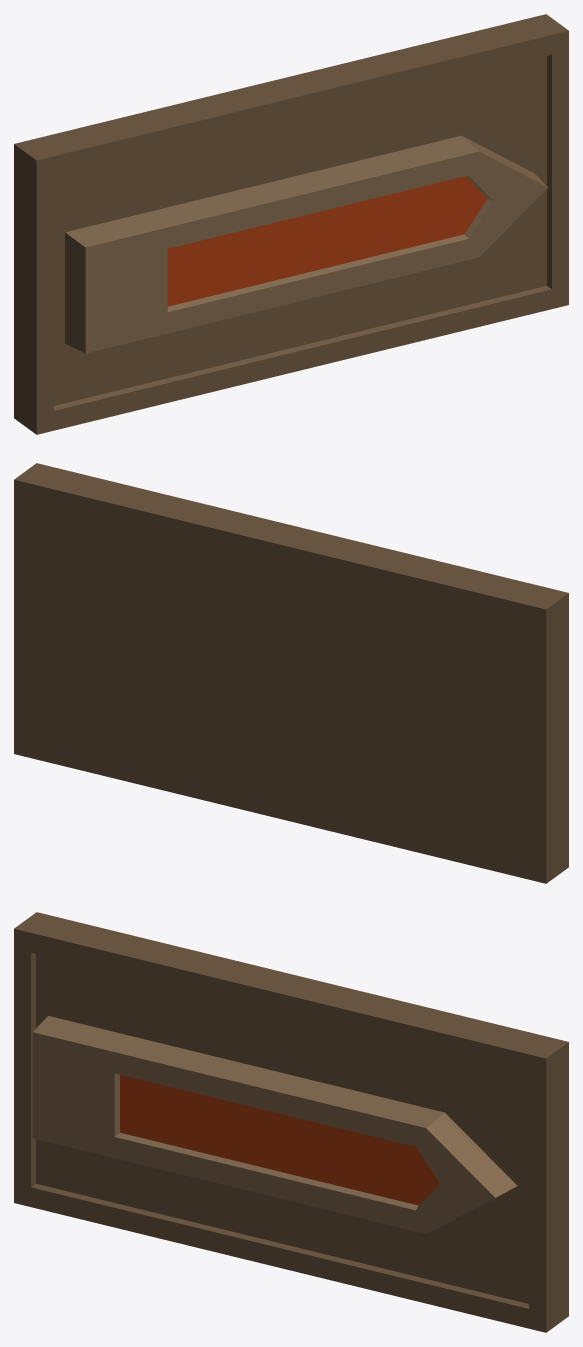
The model's file is SM_SignBoard_01_D.fbx.
3 renders of one model, top to bottom at view 1: azimuth 30°, elevation 25°; view 2: azimuth 150°, elevation 25°; view 3: azimuth 330°, elevation 25°, orthographic.
Visible parts, largest first — view 1: pCube733; view 2: pCube733; view 3: pCube733.
Boxes of the visible parts, x1,y1,x2,y2 form: pCube733: [14, 14, 568, 434]; pCube733: [14, 463, 568, 883]; pCube733: [14, 912, 568, 1332].
Bounding box in the file's own units: 138 × 68.15 × 17.04.
Materials: 1 (1 with a texture image).
